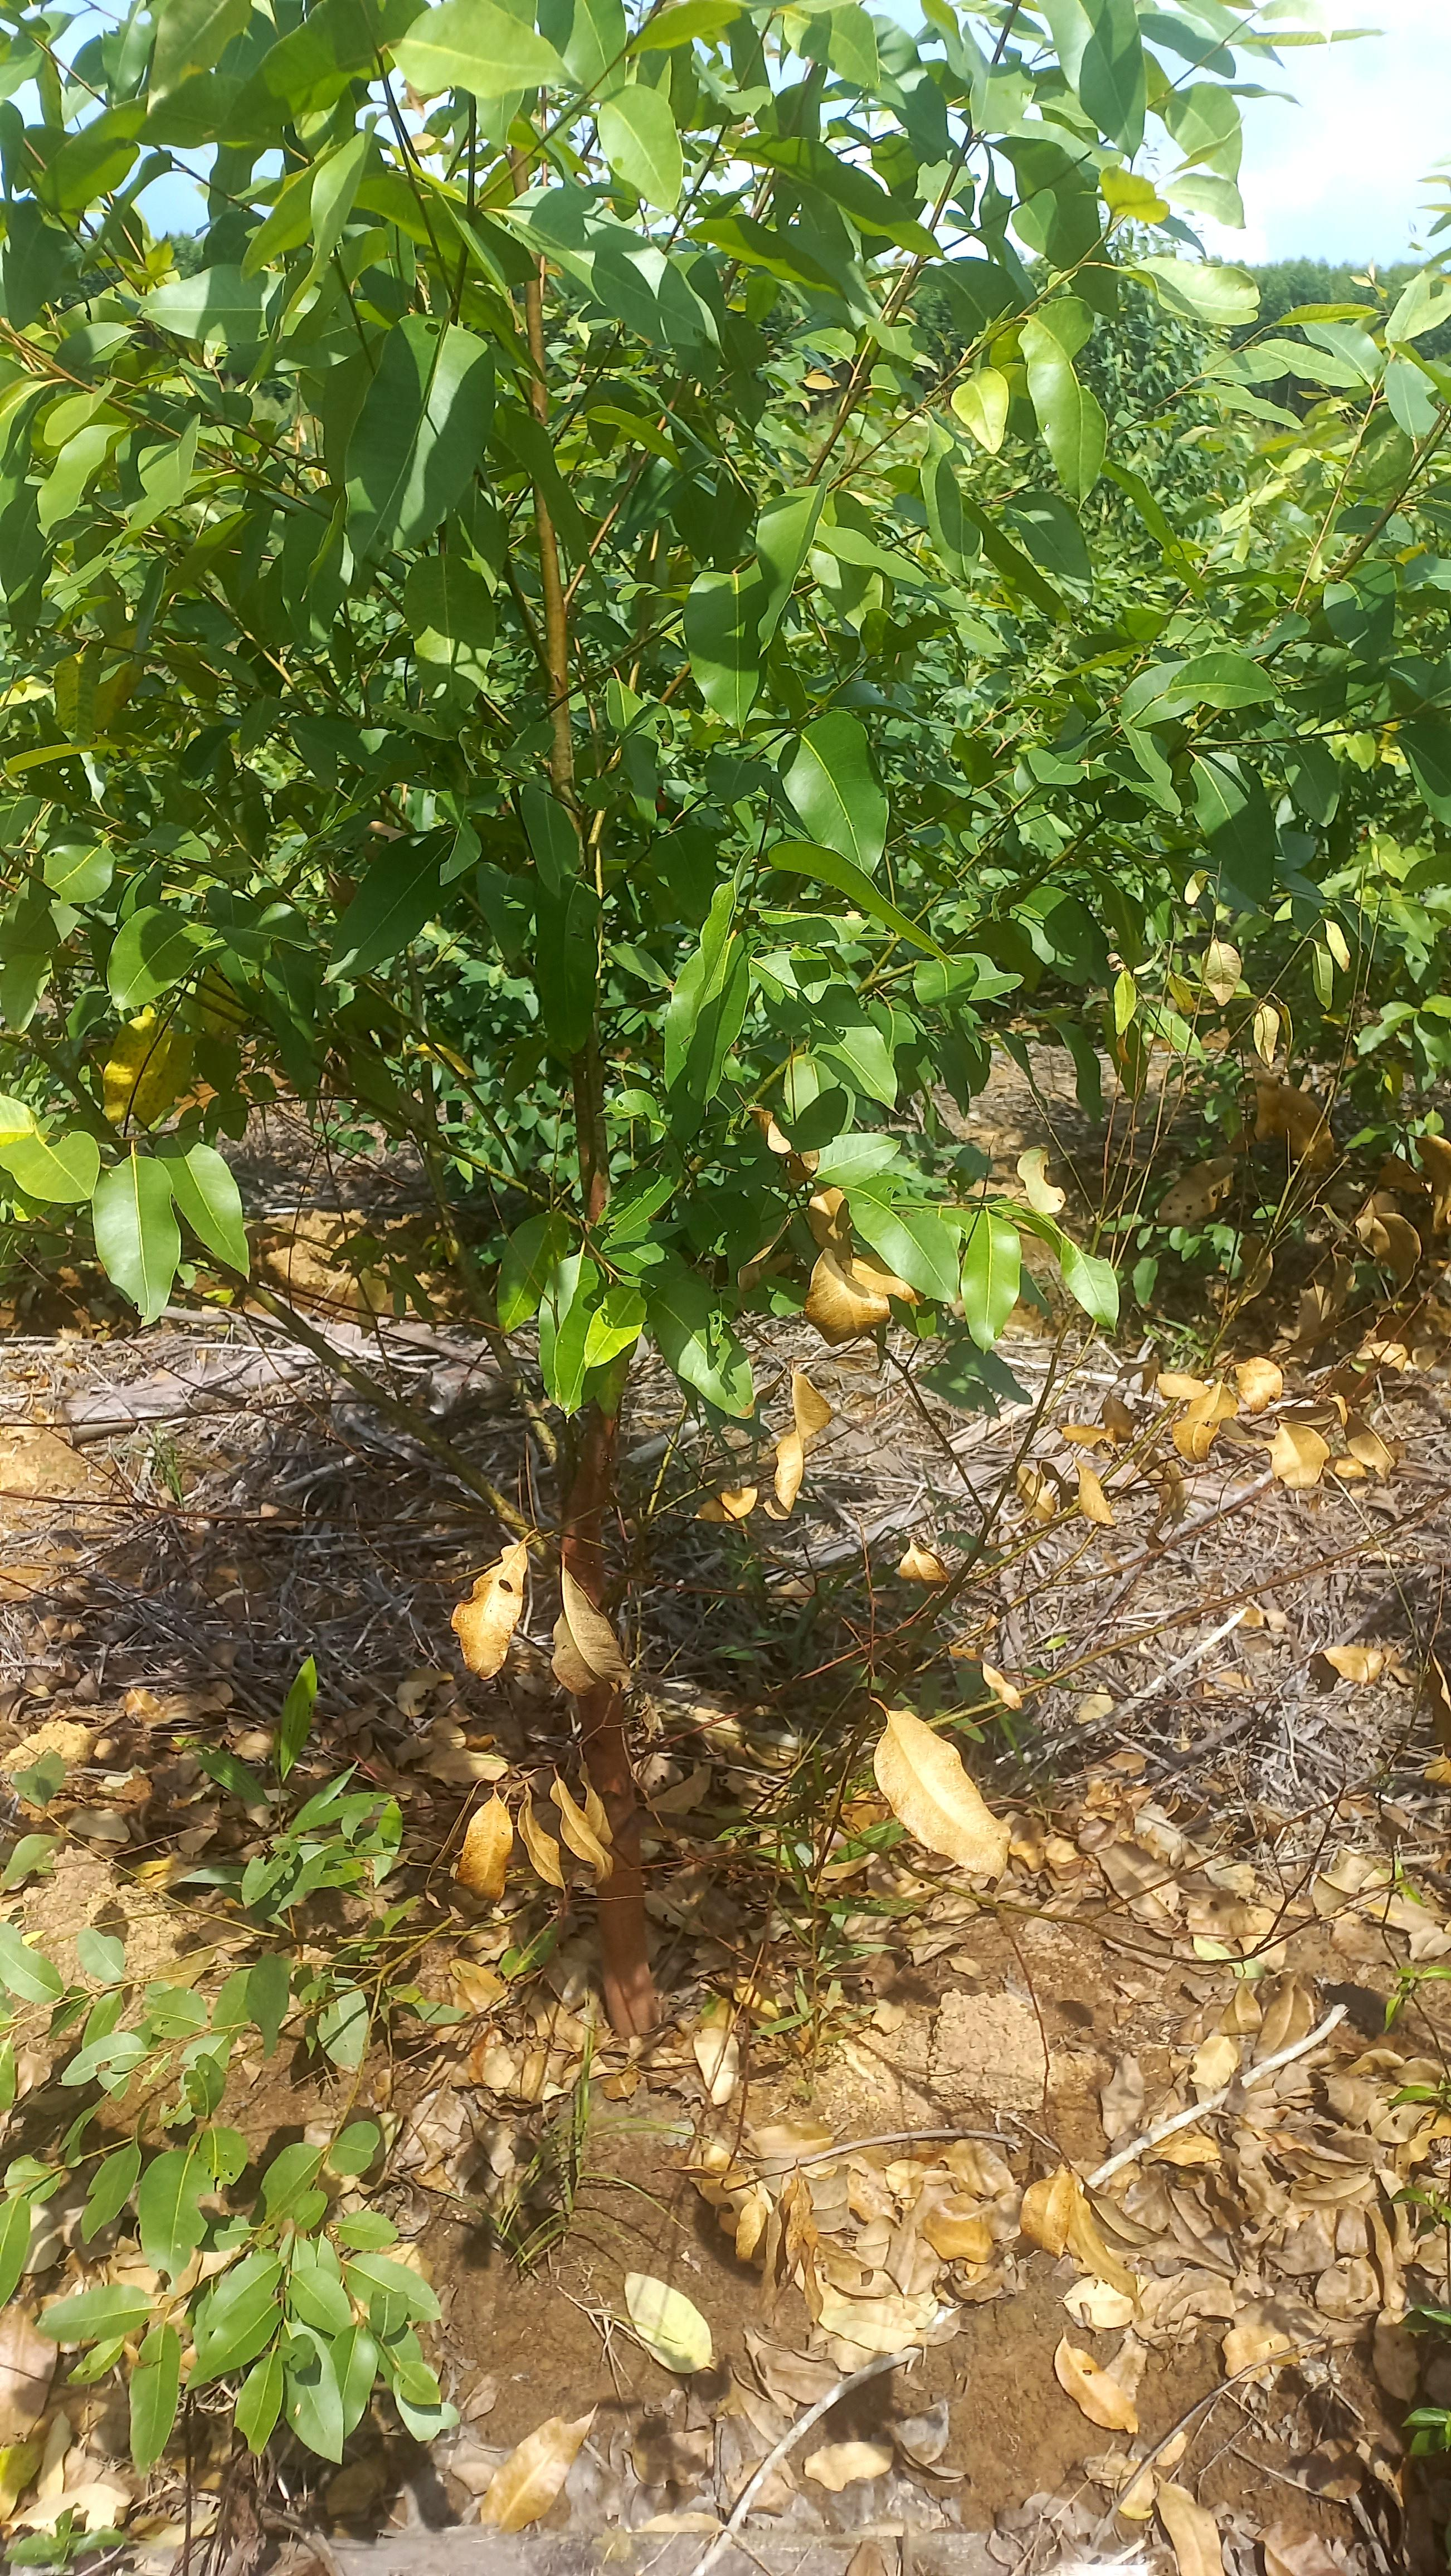Wither Tree Parts: (1118, 920, 1451, 1497), (745, 1111, 933, 1513), (451, 1527, 644, 1890), (90, 1000, 200, 1131), (688, 842, 740, 1028), (584, 1281, 649, 1371), (407, 1031, 476, 1085)
